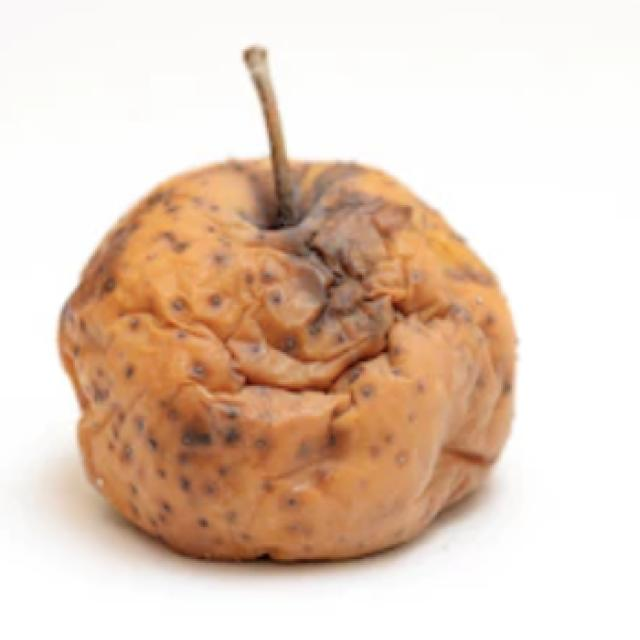apple: (59, 151, 515, 560)
